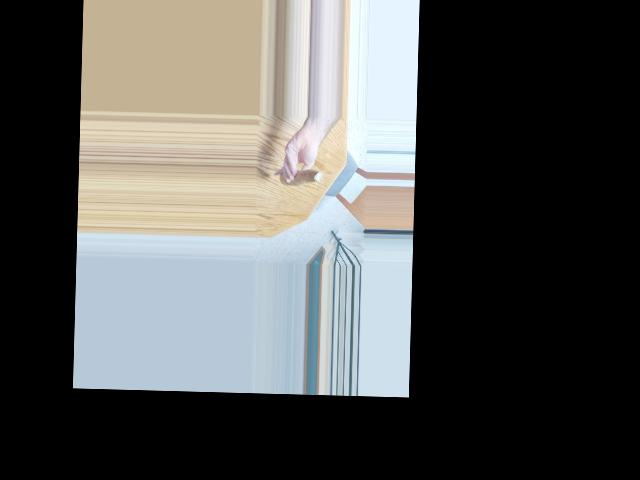sweet_potato: (284, 164, 321, 188)
